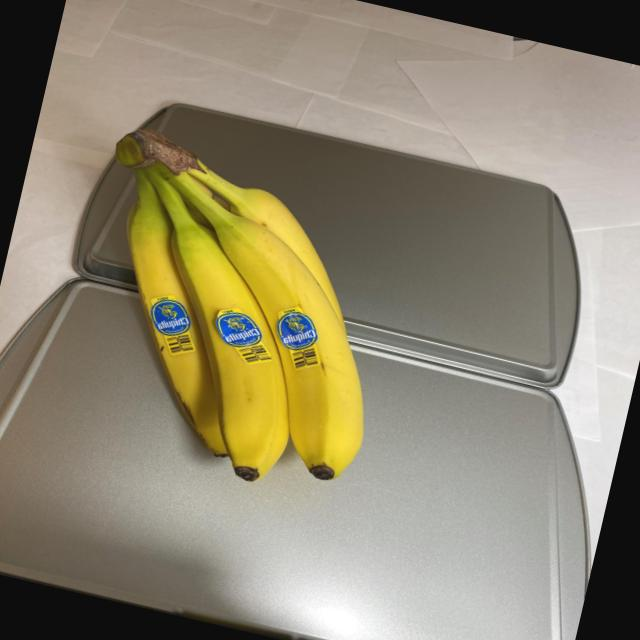banana: (36, 116, 425, 512)
